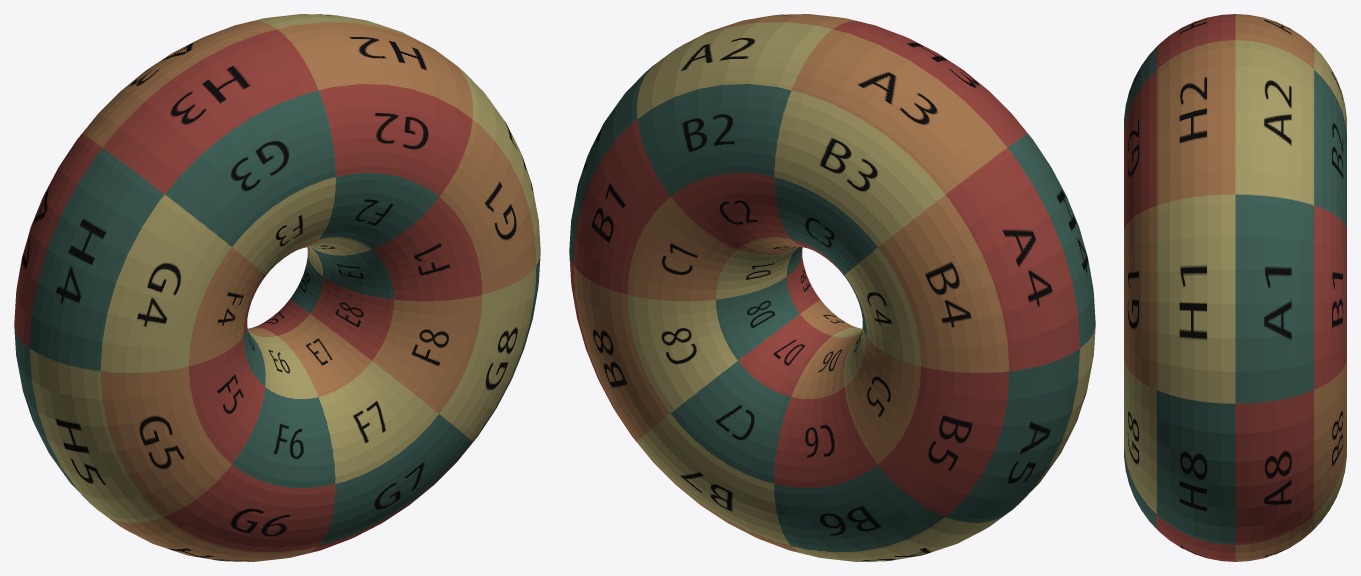
Rendered from texture_torus_R1_r20.glb.
The picture shows the model from 3 angles, left to right: view 1: azimuth 30°, elevation 25°; view 2: azimuth 150°, elevation 25°; view 3: azimuth 270°, elevation 25°; orthographic projection. The views are drawn at different scales.
Parts seen in each view (by area): view 1: world; view 2: world; view 3: world.
Boxes of the visible parts, x1,y1,x2,y2 form: world: [14, 14, 540, 561]; world: [569, 14, 1095, 561]; world: [1124, 14, 1346, 561].
Bounding box in the file's own units: 18 × 17.96 × 7.32.
Materials: 1 (1 with a texture image).
